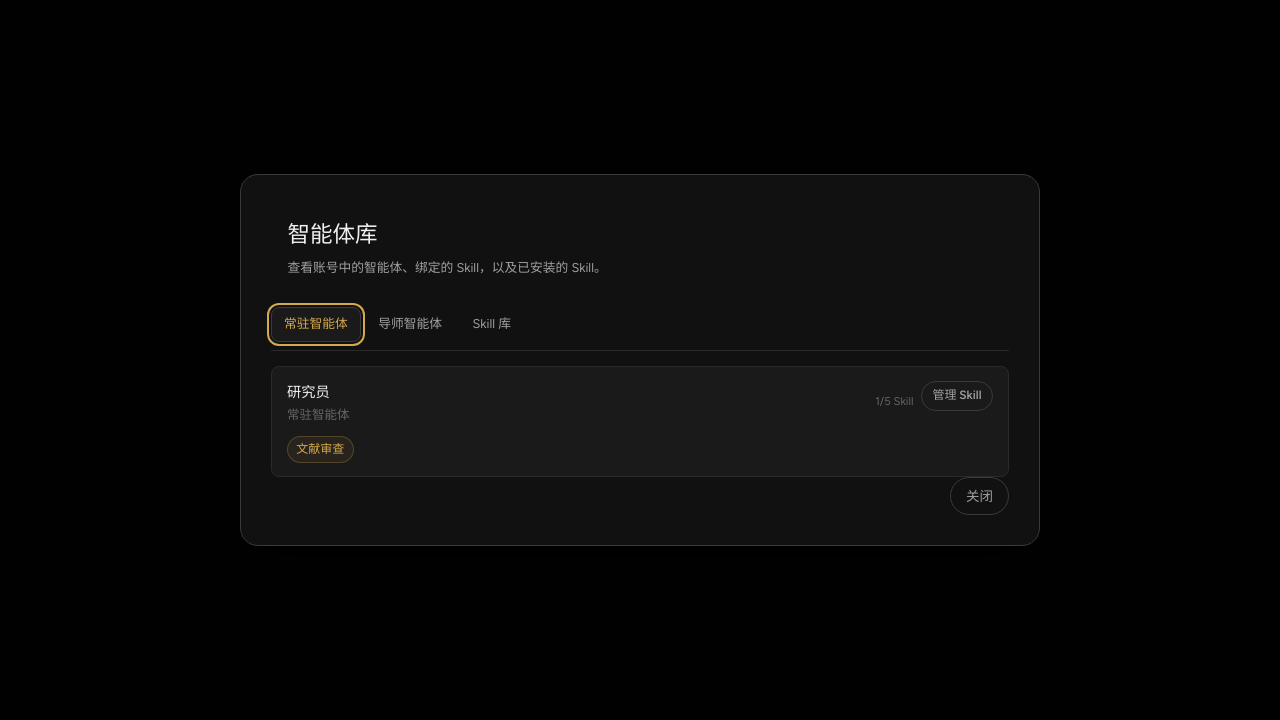
Test case: AgentLibraryDialog › shows persistent agents and mentors with their bound Skills, plus the existing Skill library
Check: the text "研究员" is shown, box [287,383,330,401]
Check: the text "文献审查" is shown, box [287,436,354,463]
Click the tab "导师智能体" at (410, 324), box [365,307,455,342]
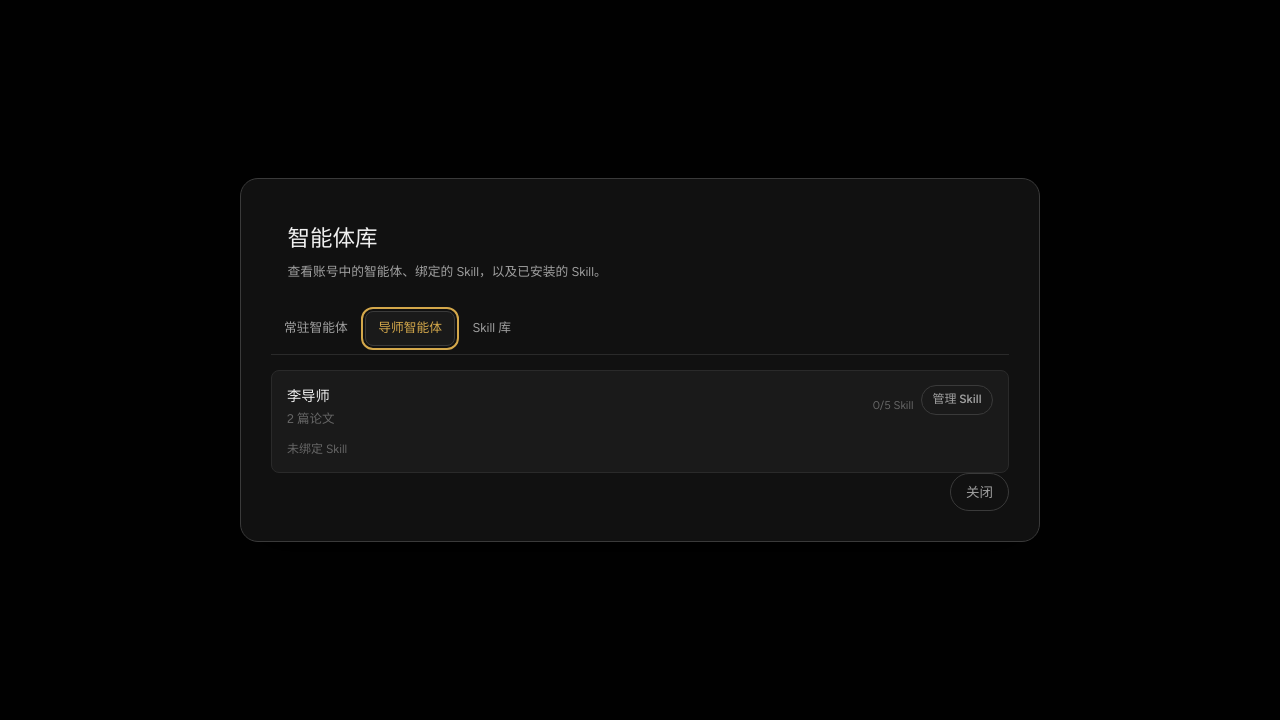
Check: the text "李导师" is shown, box [287,385,335,407]
Check: the text "未绑定 Skill" is shown, box [287,440,347,459]
Click the tab "Skill 库" at (492, 328), box [460,311,524,346]
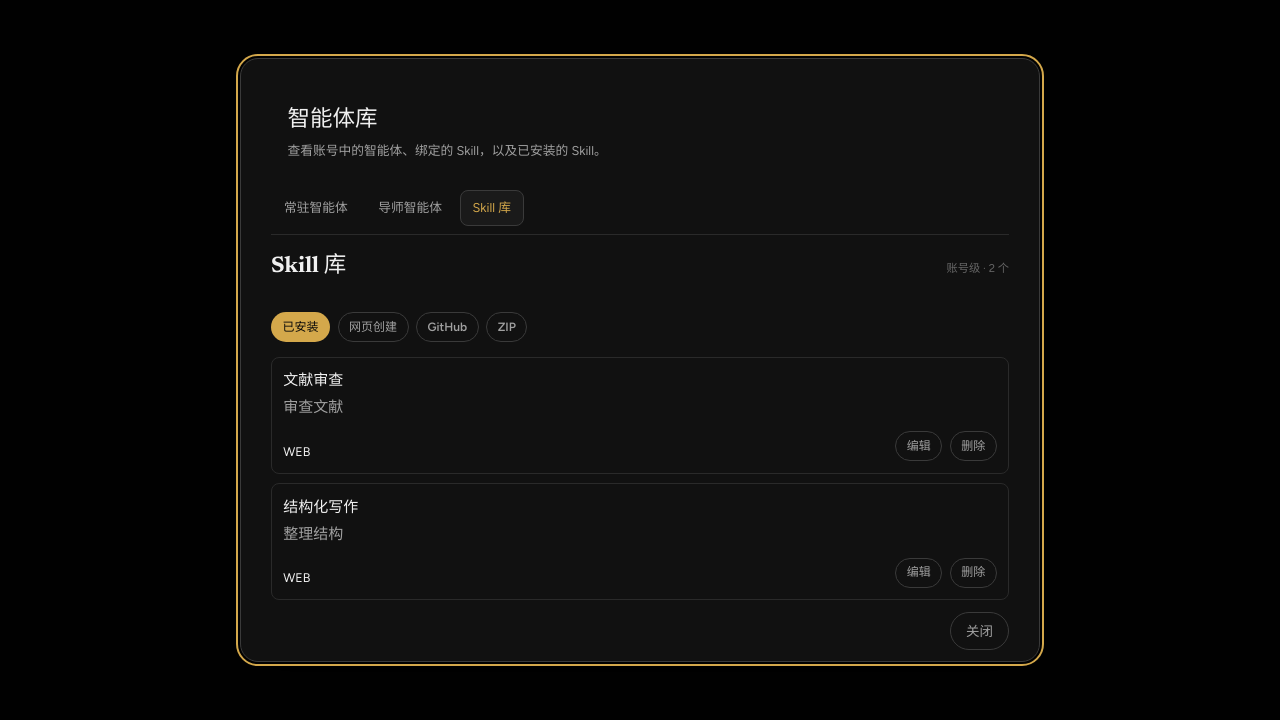
Check: the text "审查文献" is shown, box [283,396,343,420]
